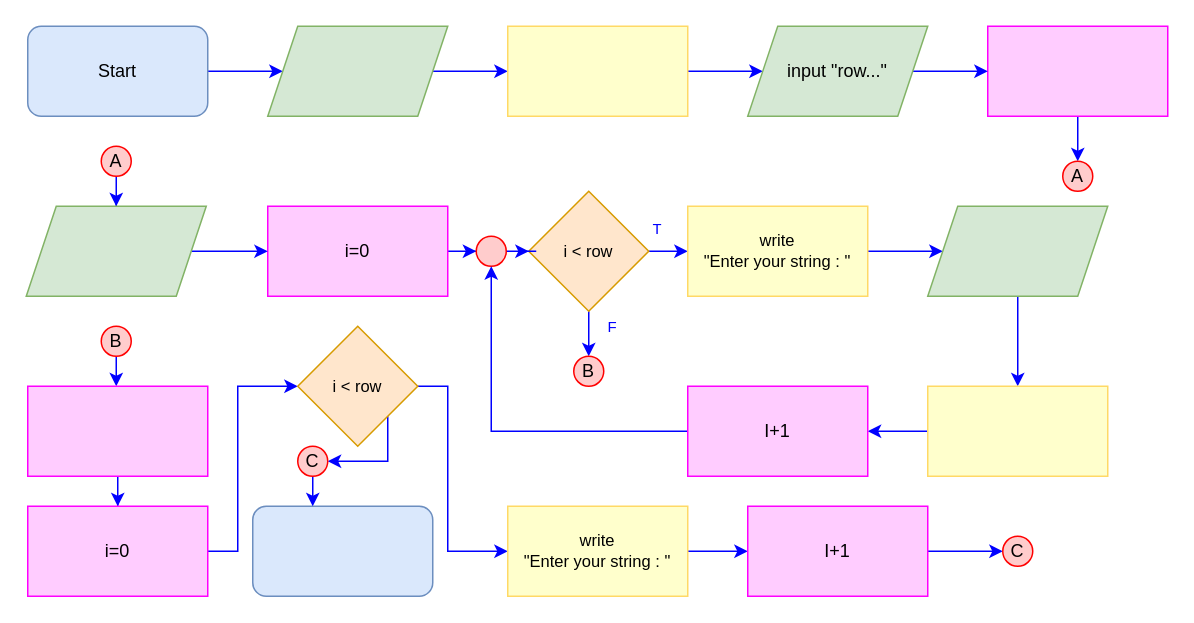
Some shapes in this 1194 by 623 pixel diagram are drawn without their labels. The box of each missing label's shape, as (x1, y1, x2, y2) in pixels:
Copy to pointer: (26, 385, 208, 476)
End: (251, 505, 433, 596)
function(row): (986, 25, 1168, 116)
input "...": (926, 205, 1108, 296)
pointer, i: (25, 205, 206, 296)
pointer, row: (266, 25, 448, 116)
write "How many rows do you want ? :": (506, 25, 688, 116)
write "Your string is : ": (926, 385, 1108, 476)
